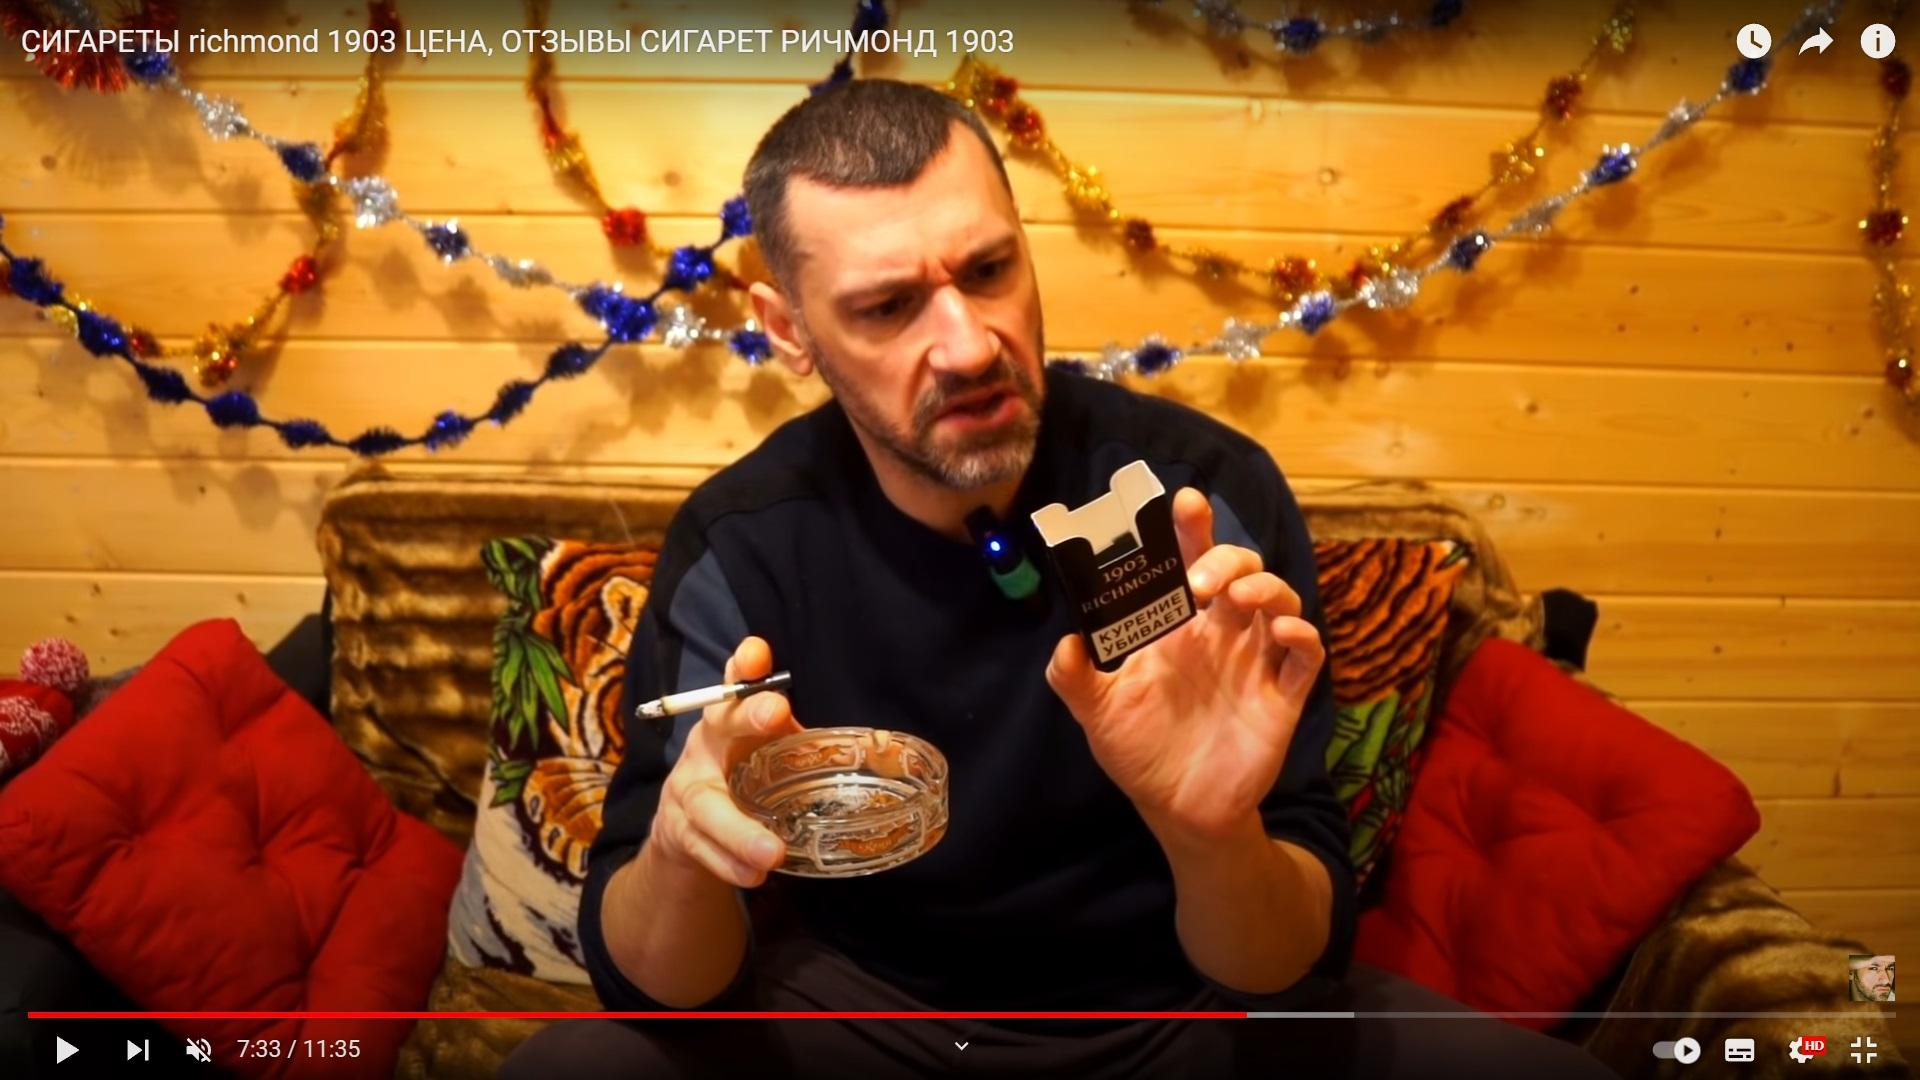cigarette: (634, 669, 794, 720)
